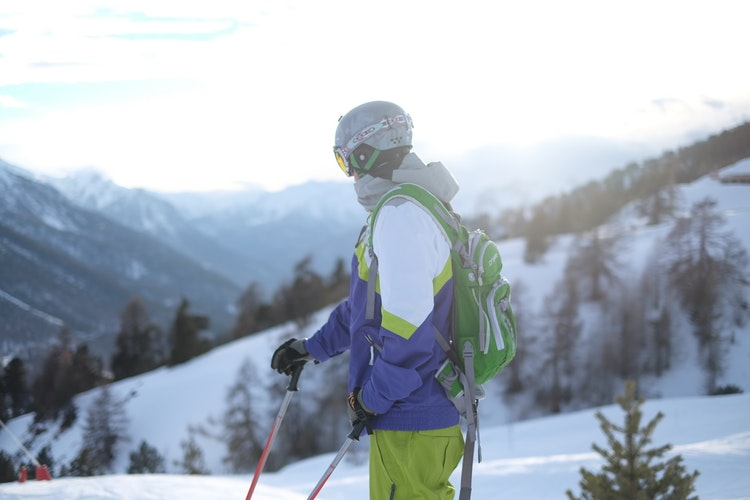helmet: (320, 88, 429, 162)
